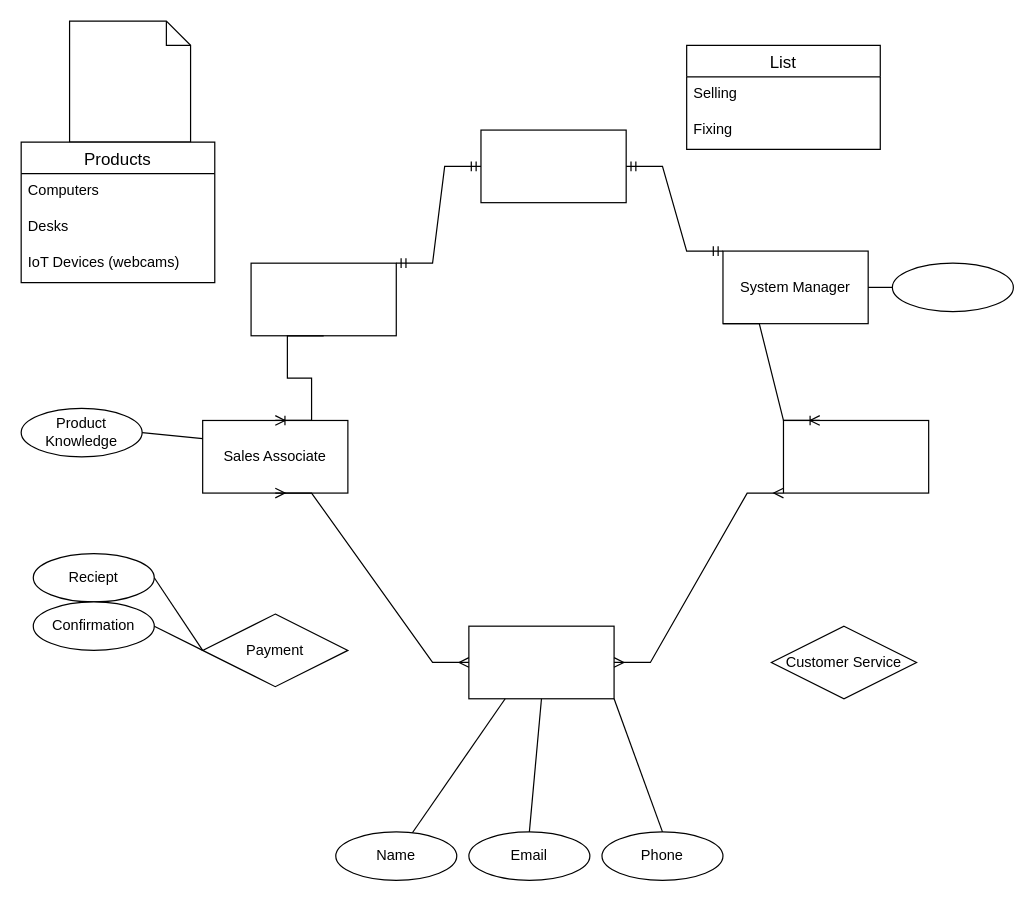
Image size: 1035x901. Some labels were removed from this diagram. Here are the shapes that lost their labels. From the top down, the centre of each, then its label:
At (129,81): "Serena's Remote Service...work from home products".
At (553,166): "Owner/CEO".
At (323,299): "Sales Manager".
At (952,287): "System Admin license".
At (855,456): "Technicians".
At (541,662): "Customer".
